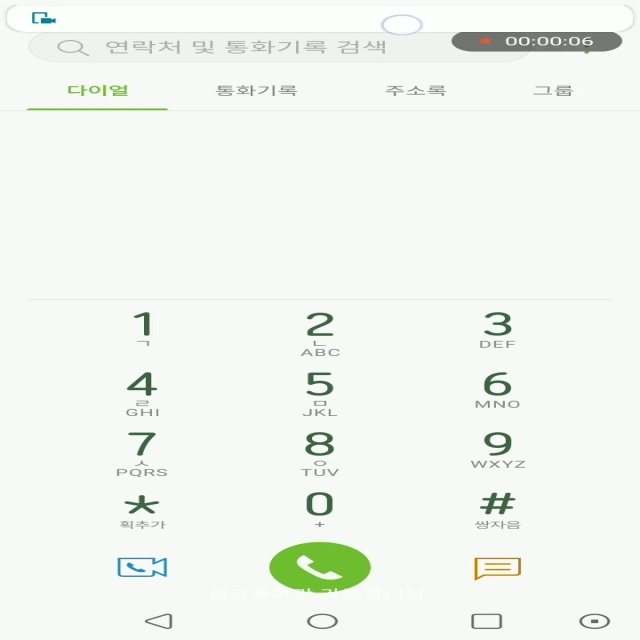Cursor: (381, 14, 425, 37)
